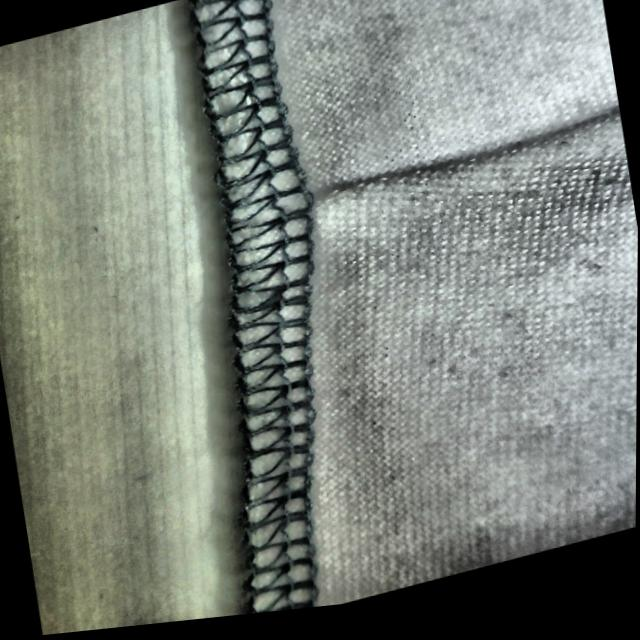seam: (215, 102, 543, 297)
